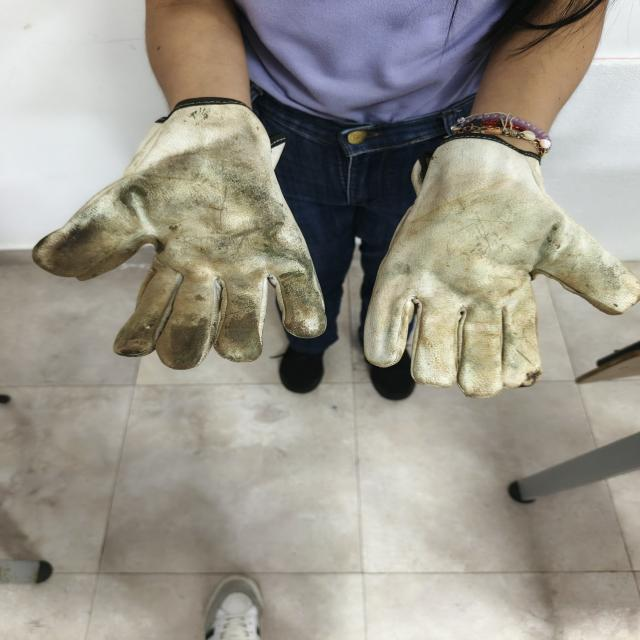gloves: (33, 101, 326, 369), (364, 113, 640, 397)
